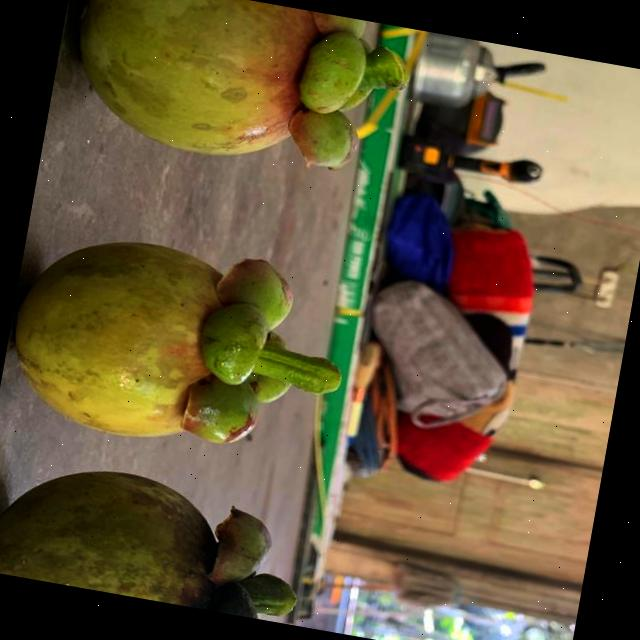mangosteen: (0, 214, 369, 517), (50, 0, 416, 211), (0, 438, 324, 625)
